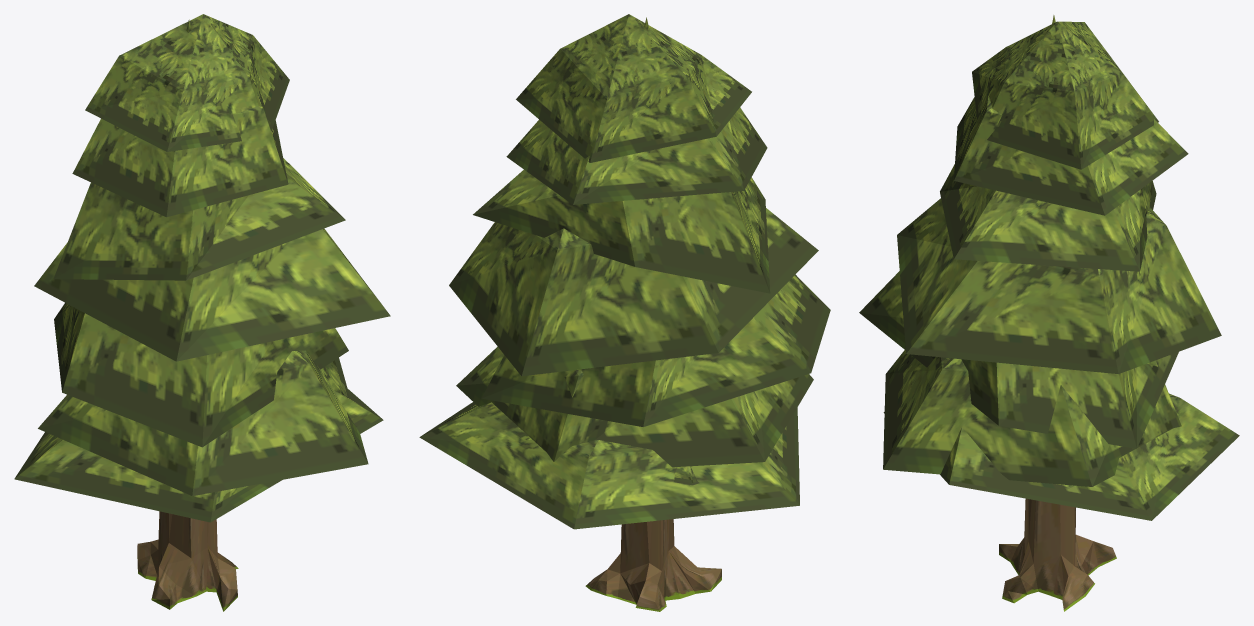
File: ToonTree.glb
3 views of the same model, side by side, from view 1: azimuth 30°, elevation 25°; view 2: azimuth 150°, elevation 25°; view 3: azimuth 270°, elevation 25° (orthographic). The views are drawn at different scales.
Visible parts, largest first — view 1: Tree; view 2: Tree; view 3: Tree.
Boxes of the visible parts, x1=… form: Tree: x1=14, y1=14, x2=390, y2=611; Tree: x1=419, y1=14, x2=830, y2=611; Tree: x1=859, y1=15, x2=1239, y2=611.
Bounding box in the file's own units: 7.88 × 12.89 × 7.66.
Materials: 2 (2 with a texture image).
